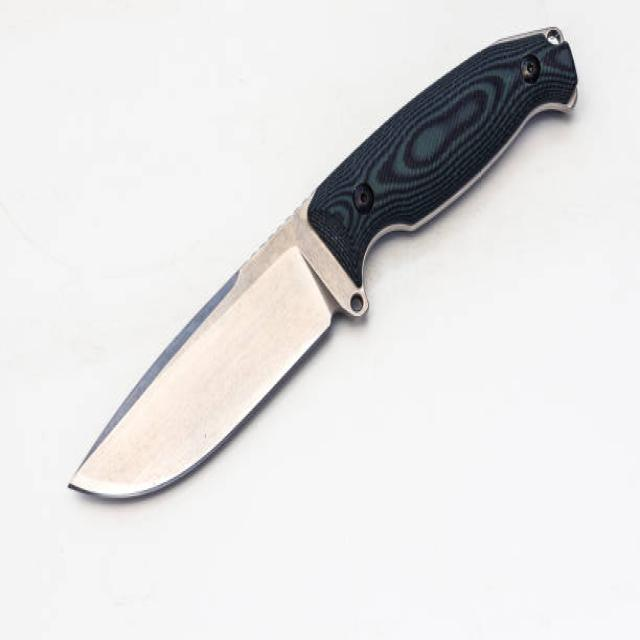knife: (62, 22, 585, 508)
